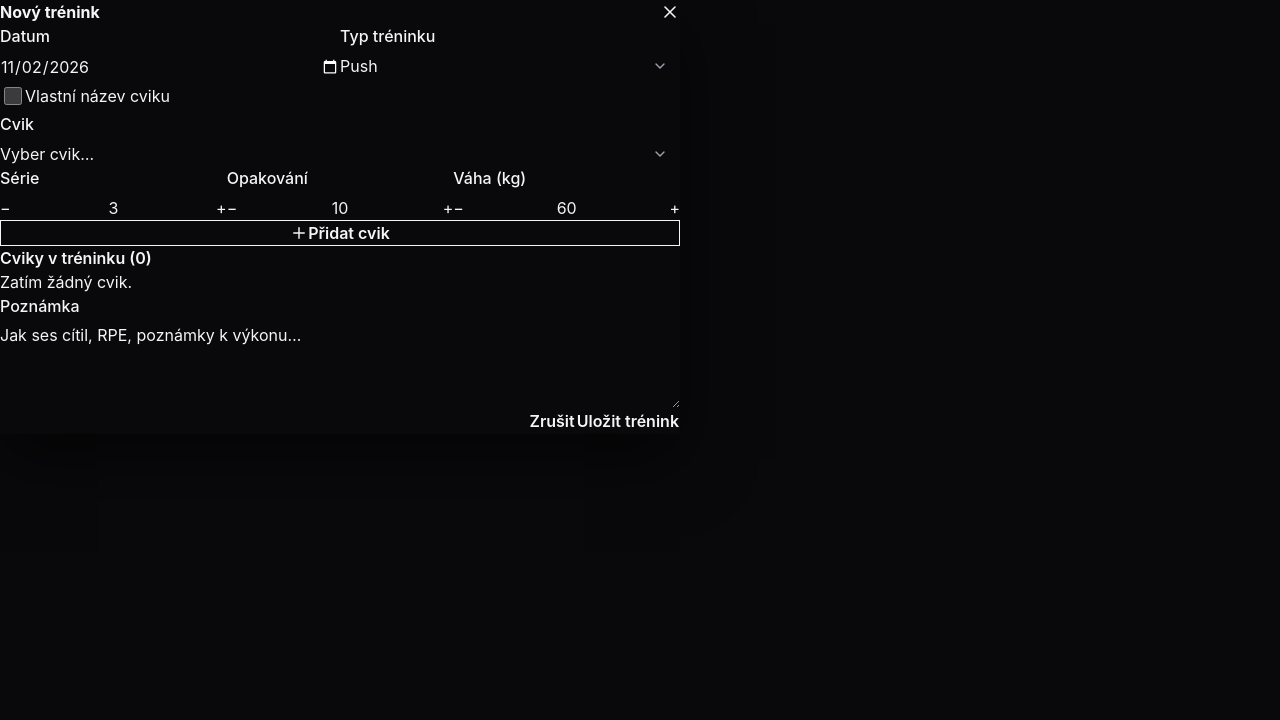
Test case: WorkoutForm: last time › suggests one more rep below the top of the rep range
Select "Bench Press (Barbell)" in the dropdown labelled "Cvik": (340, 154) 0,142 -> 680,166
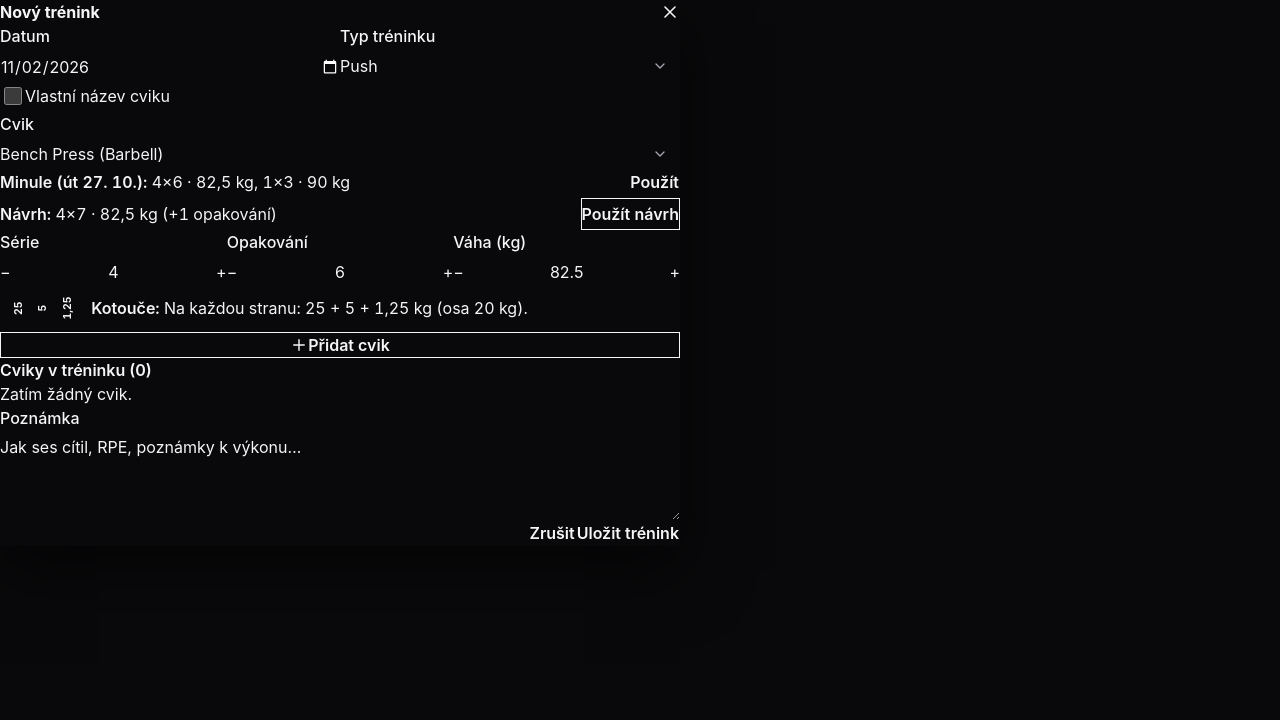
Click the button "Použít návrh": (630, 214) 581,198 -> 680,230
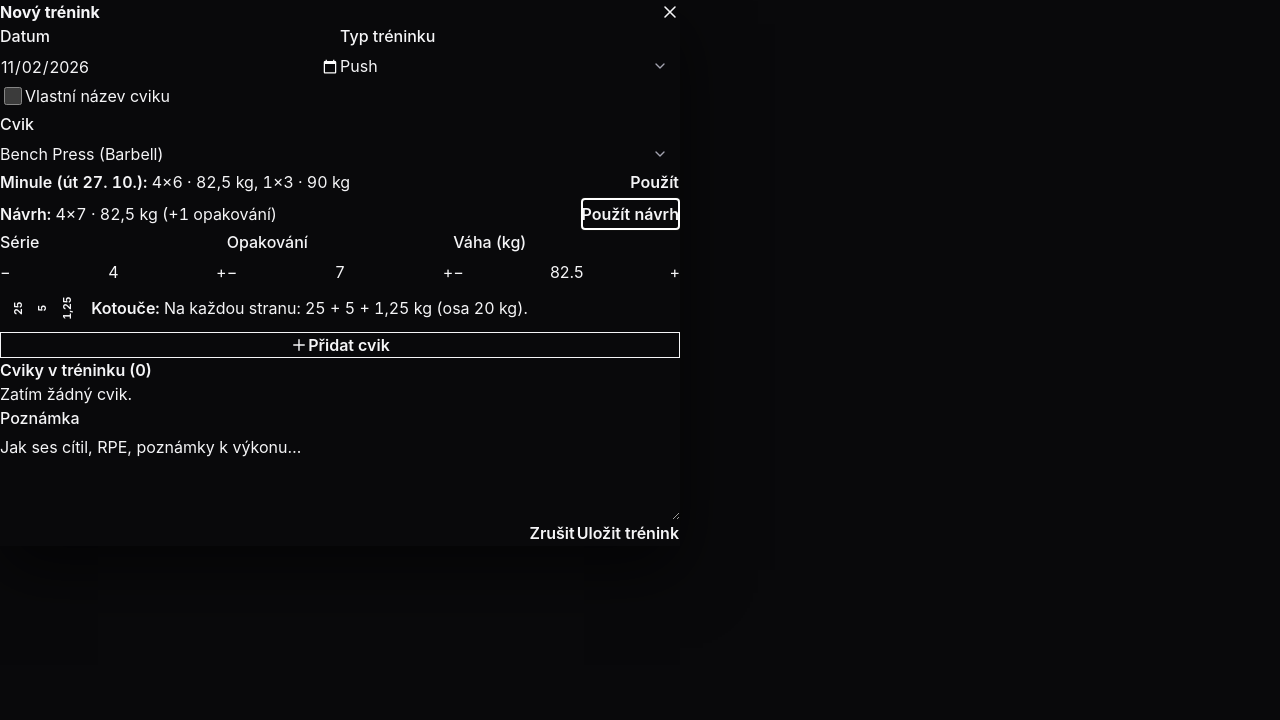
Check: the number field labelled "Série" holds "4", box 11,260 -> 216,284
Check: the number field labelled "Váha (kg)" holds "82.5", box 464,260 -> 669,284
Check: the number field labelled "Opakování" holds "7", box 237,260 -> 443,284
